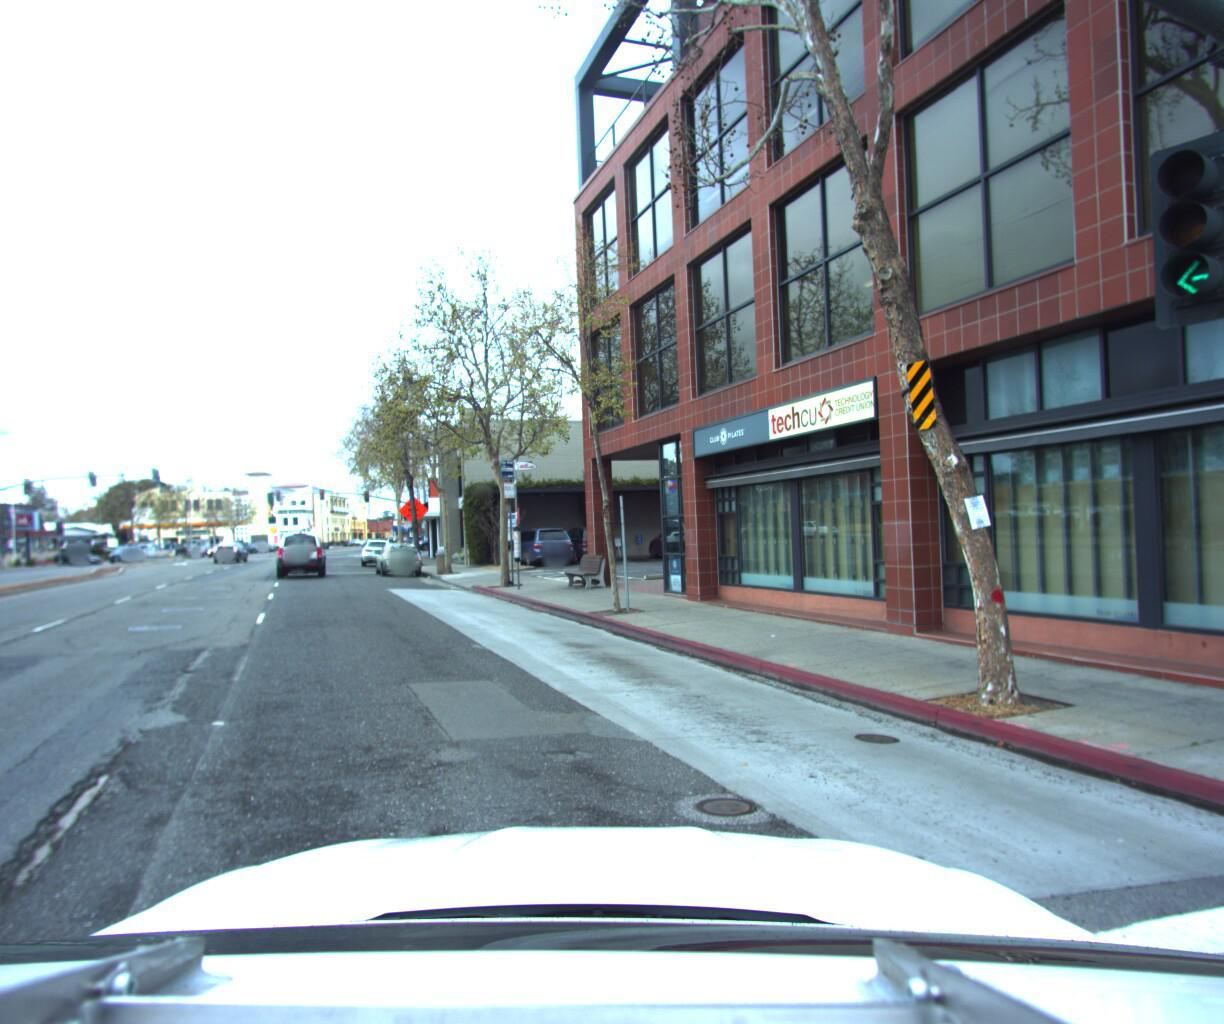car: (498, 531, 573, 577), (547, 529, 615, 569), (276, 533, 327, 585), (370, 549, 423, 589), (359, 547, 393, 578), (212, 551, 251, 575)
